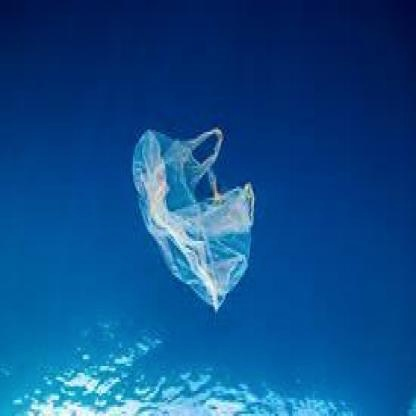pbag: (130, 127, 256, 318)
